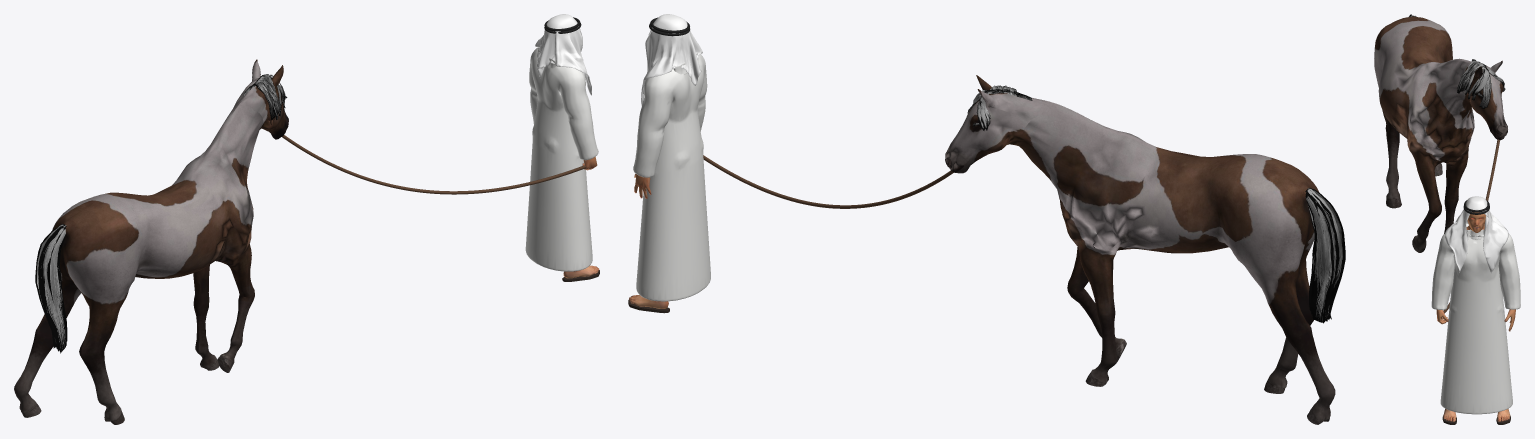
File: characters.glb
The picture shows the model from 3 angles, left to right: view 1: azimuth 30°, elevation 25°; view 2: azimuth 150°, elevation 25°; view 3: azimuth 270°, elevation 25°; orthographic projection. The views are drawn at different scales.
Visible parts, largest first — view 1: Object_121, SaudiMan_Thobe, Object_119, SaudiMan_Shemagh, Rope; view 2: Object_121, SaudiMan_Thobe, Object_119, SaudiMan_Shemagh, Rope; view 3: Object_121, SaudiMan_Thobe, SaudiMan_Shemagh, Object_119, SaudiMan_Body, Rope, SaudiMan_Agal.
Boxes of the visible parts, x1,y1,x2,y2 form: Object_121: (14,59,288,424); SaudiMan_Thobe: (525,47,598,271); Object_119: (35,74,287,353); SaudiMan_Shemagh: (535,14,591,95); Rope: (282,135,586,194); Object_121: (945,75,1335,424); SaudiMan_Thobe: (633,54,710,301); Object_119: (967,85,1345,323); SaudiMan_Shemagh: (641,14,702,106); Rope: (703,155,953,208); Object_121: (1374,16,1507,252); SaudiMan_Thobe: (1431,223,1520,414); SaudiMan_Shemagh: (1444,196,1508,273); Object_119: (1409,14,1505,108); SaudiMan_Body: (1436,212,1515,421); Rope: (1443,139,1499,313); SaudiMan_Agal: (1463,200,1489,214).
Bounding box in the file's own units: 4.73 × 2.03 × 1.17.
9 materials, 3 textured.
